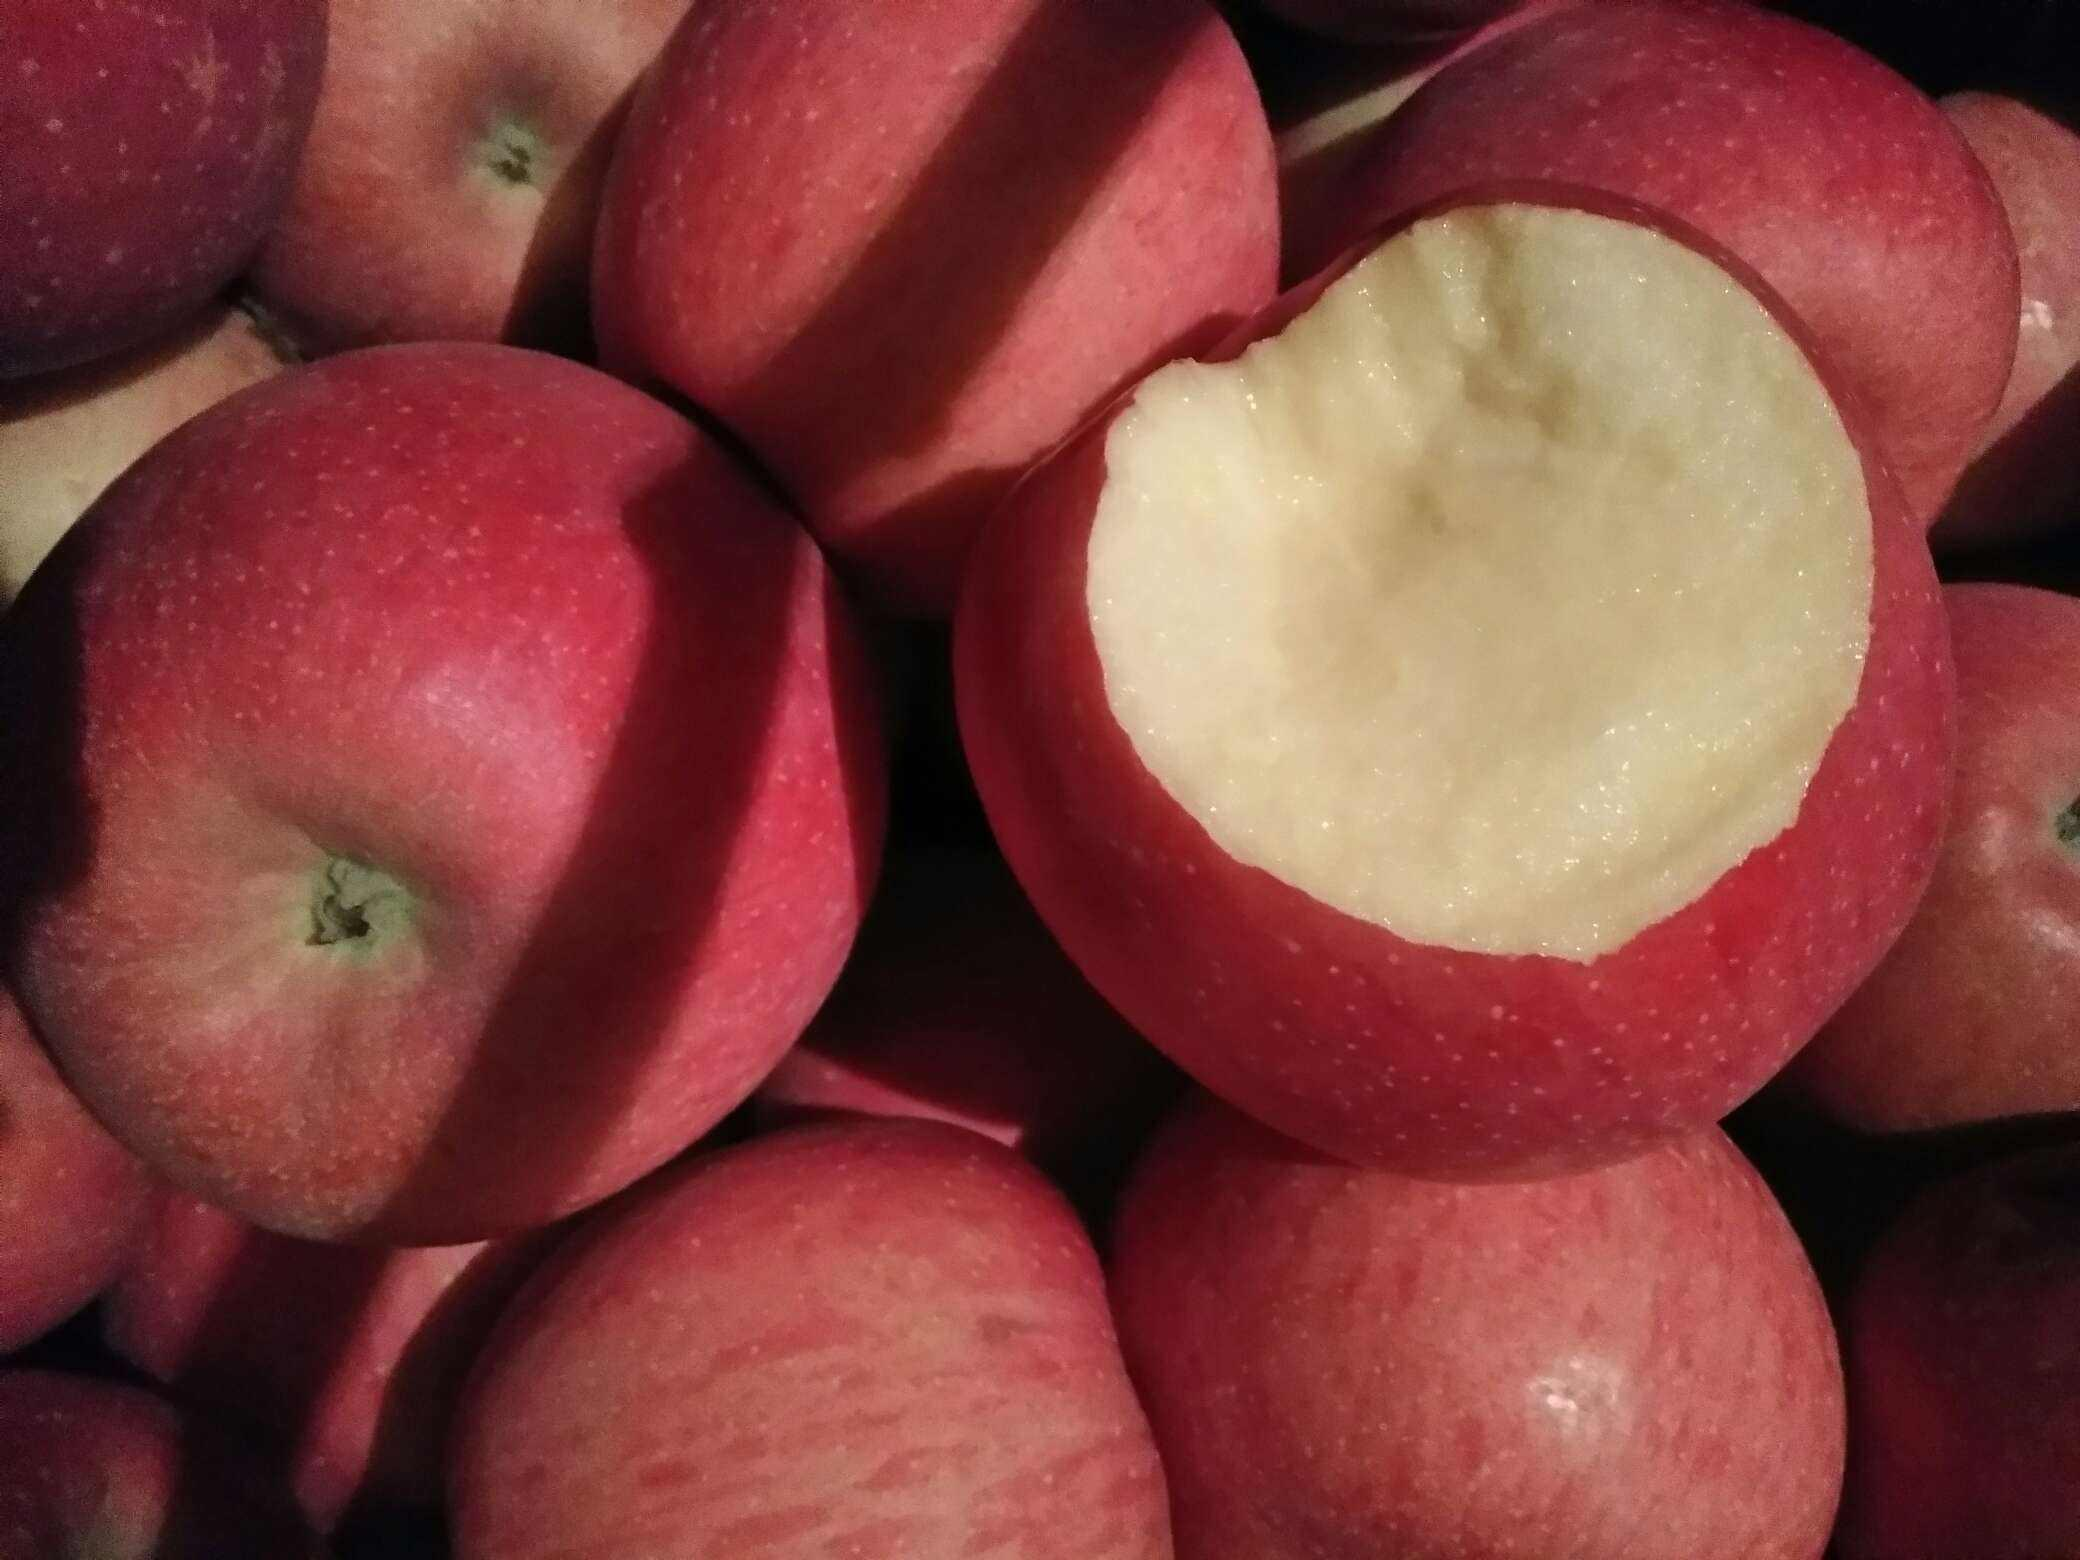apple: (942, 180, 1982, 1199), (15, 344, 868, 1262), (583, 2, 1256, 575), (1109, 1095, 1857, 1549), (429, 1119, 1161, 1547), (1770, 505, 2080, 1154), (254, 2, 693, 352), (2, 3, 318, 383)
